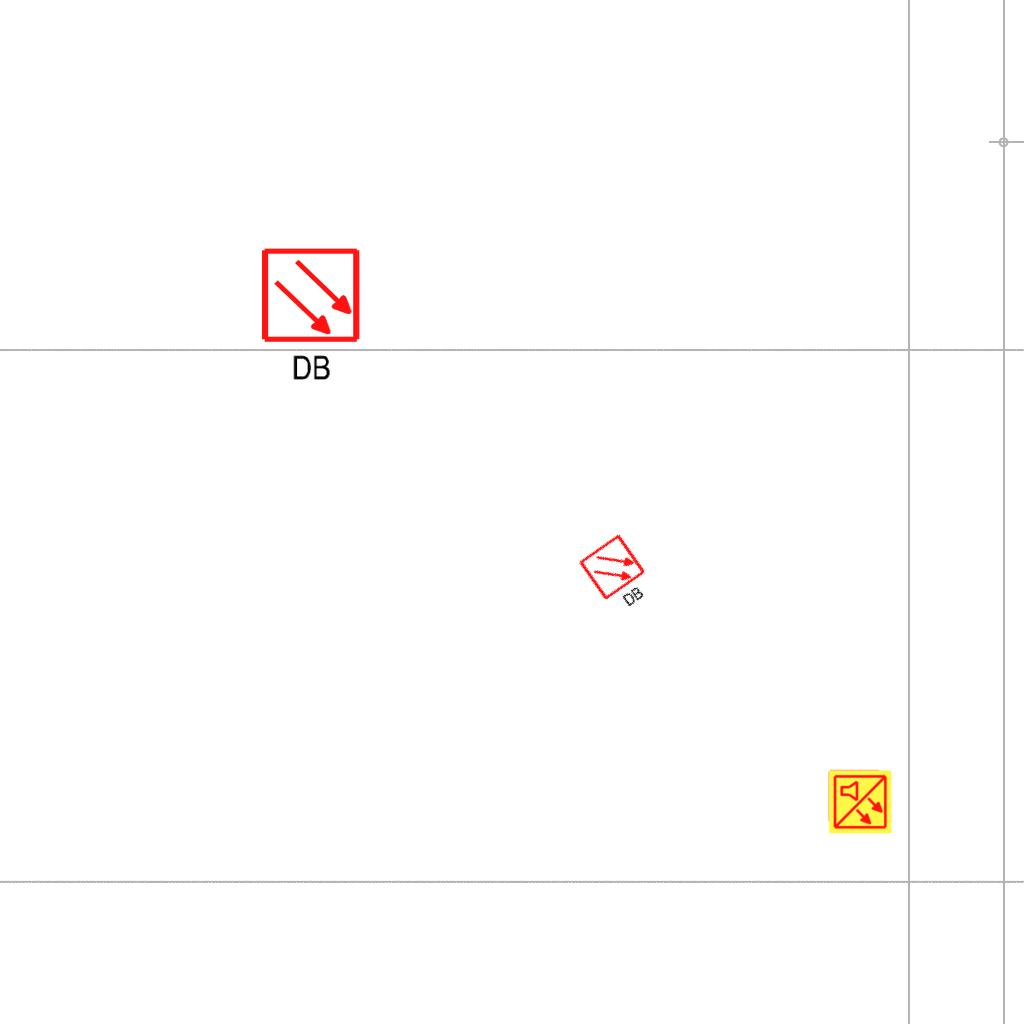DB_Melder_in_Doppelboden_mit_Revisionsoeffnung_mind_40_x_40_cm: (255, 241, 369, 390), (573, 528, 664, 622)
OKW_Multisensormelder_(Kombination_optischer_Rauch-Kahlenmonoxid_Waerme-Melder): (827, 769, 893, 835)
